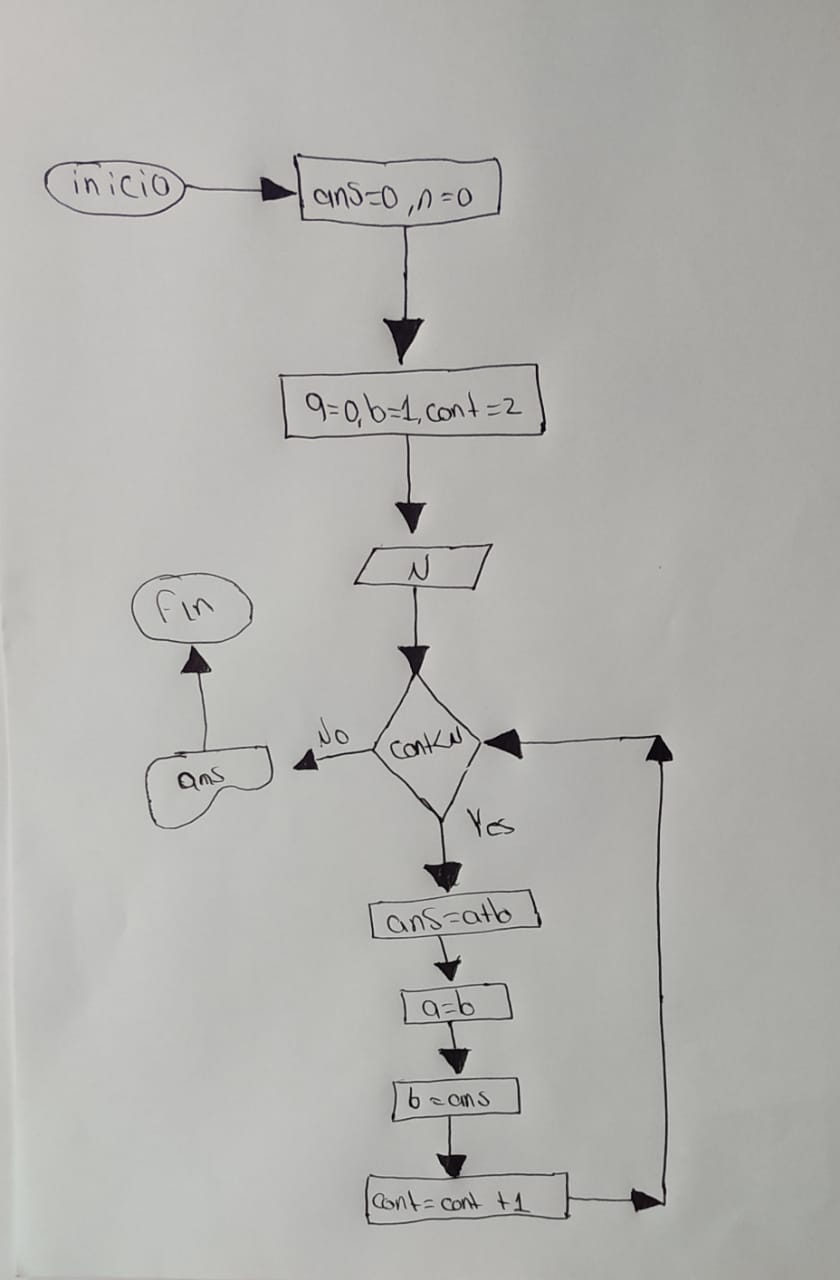arrow_line_down: (382, 226, 426, 372), (391, 433, 432, 538), (397, 585, 438, 677), (421, 817, 464, 896), (435, 1020, 476, 1077), (432, 1112, 466, 1178), (427, 935, 463, 983)
arrow_line_left: (482, 723, 656, 759), (294, 739, 375, 775)
arrow_line_right: (183, 172, 297, 206), (566, 1187, 664, 1215)
arrow_line_up: (645, 734, 675, 1207), (177, 642, 220, 754)
decision: (372, 674, 487, 819)
print: (139, 741, 283, 834)
process: (274, 360, 550, 444), (290, 146, 507, 229), (359, 1170, 572, 1226), (364, 888, 546, 944), (385, 1073, 525, 1125), (397, 979, 515, 1027)
scan: (349, 540, 497, 595)
start_end: (126, 565, 258, 649), (40, 153, 186, 224)
